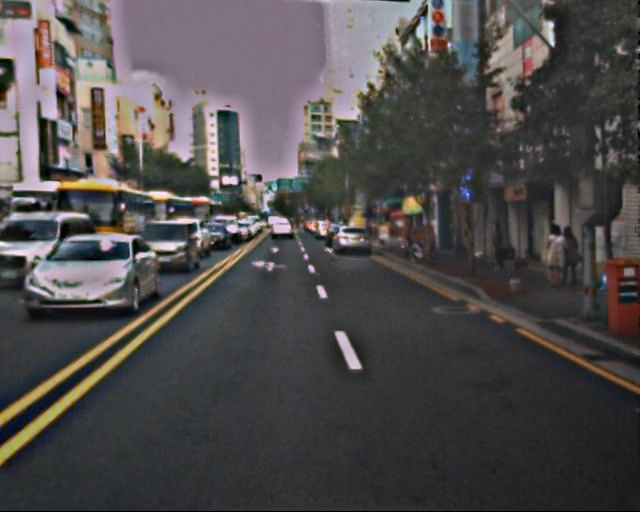person: (554, 224, 581, 291), (539, 226, 566, 292), (488, 219, 509, 270), (459, 218, 477, 263)
